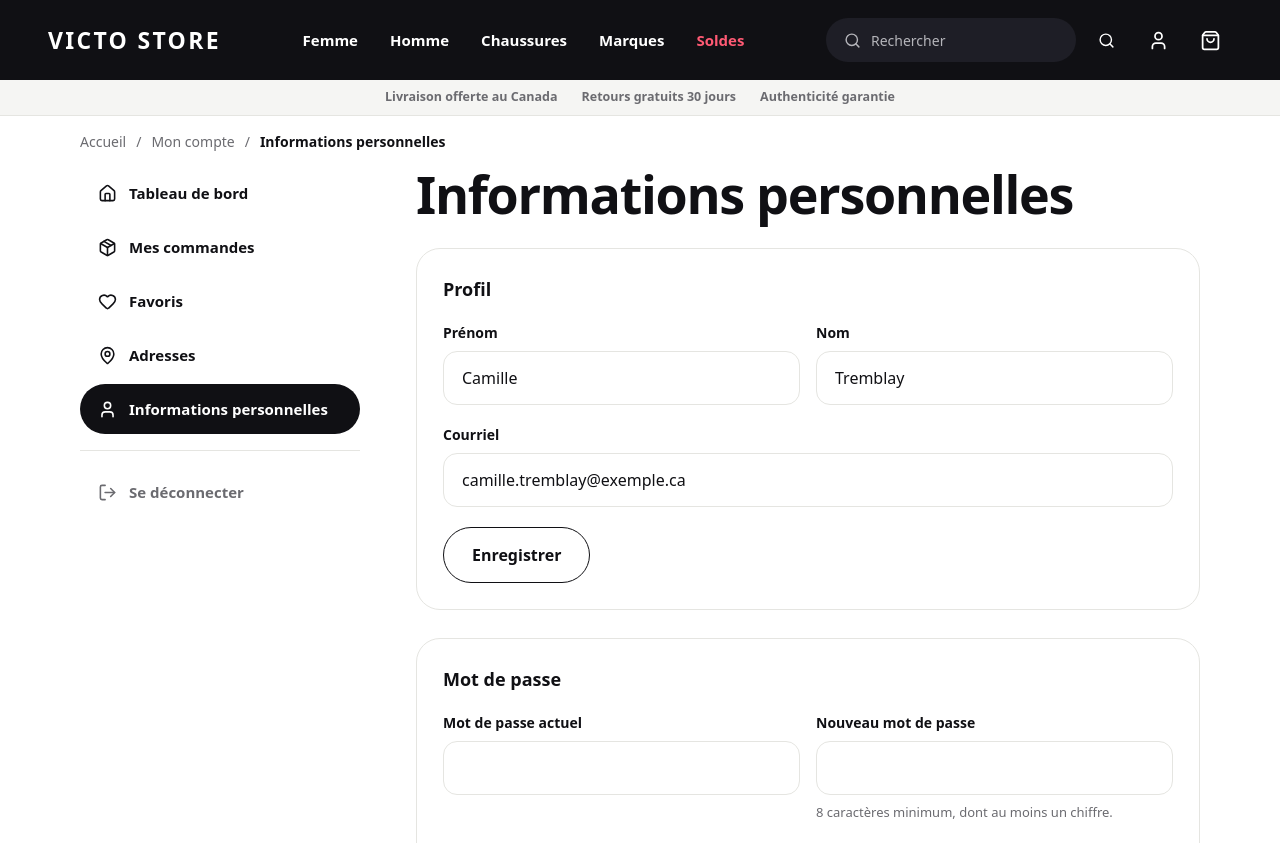
it: informations personnelles — profil › enregistre un nouveau nom et le confirme
Replace the text in the field labelled "Nom" with "Gagnon" at (994, 378), box [816, 351, 1173, 405]
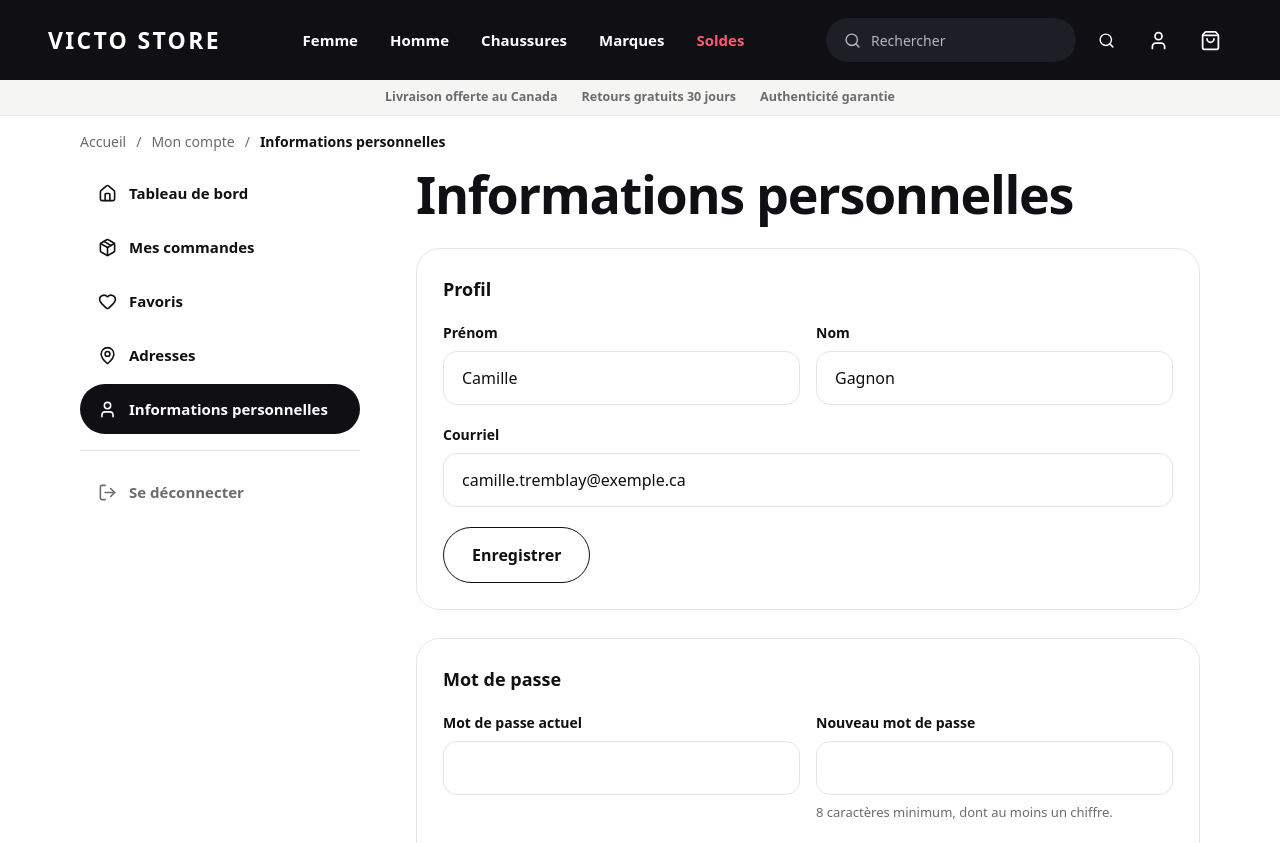
Click the button "Enregistrer" at (517, 555), box [443, 527, 590, 583]
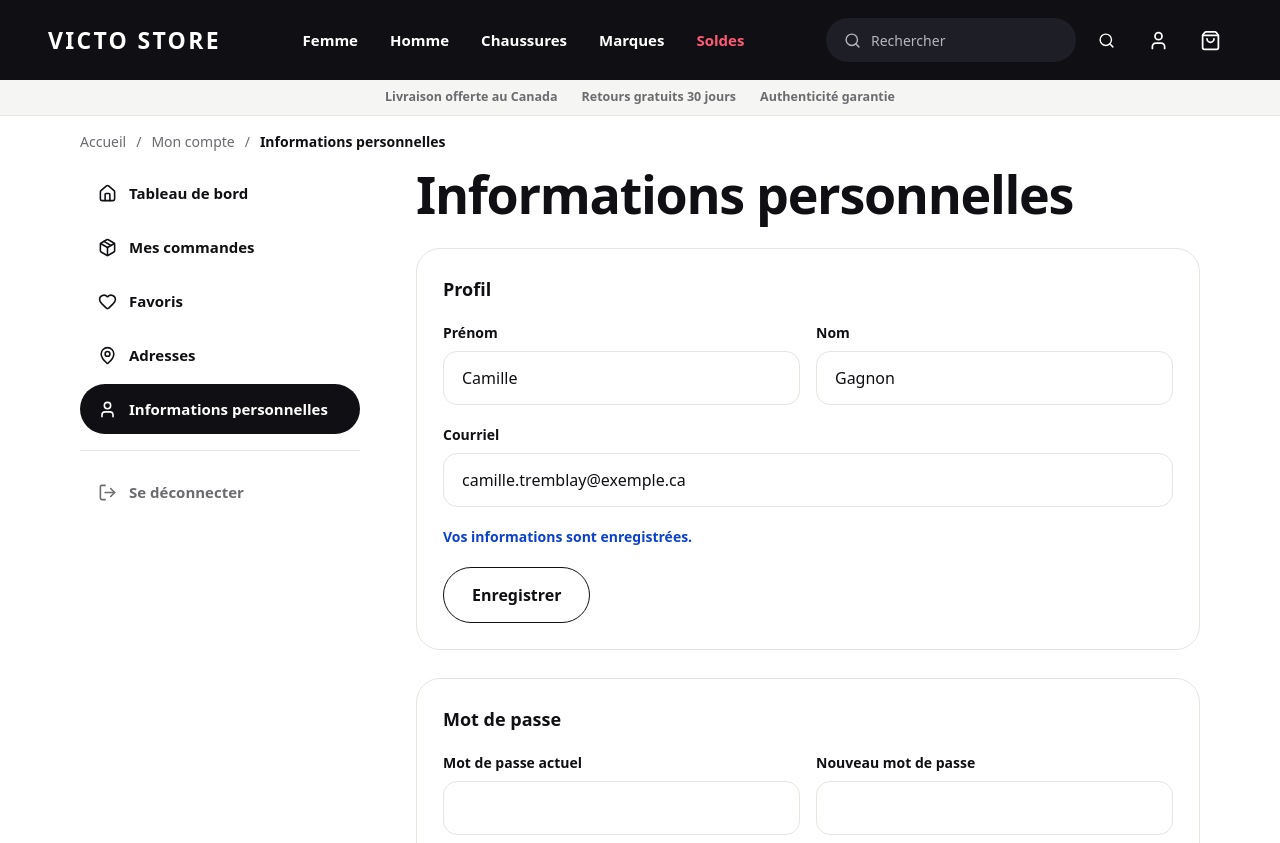
Now the message reads "Vos informations sont enregistrées.", box [443, 527, 692, 546]
